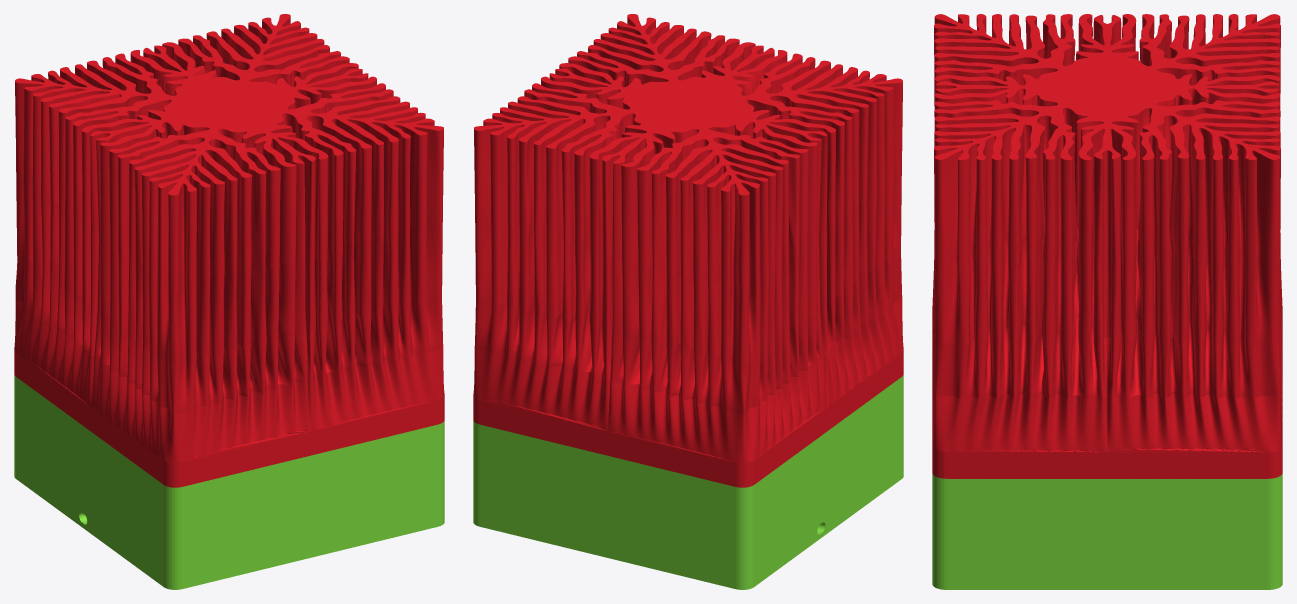
The picture shows the model from 3 angles, left to right: view 1: azimuth 30°, elevation 25°; view 2: azimuth 150°, elevation 25°; view 3: azimuth 270°, elevation 25°; orthographic projection. The views are drawn at different scales.
Parts seen in each view (by area): view 1: kasa; view 2: kasa; view 3: kasa.
Part boxes in pixels (<box>): kasa: <box>14,14,444,589</box>; kasa: <box>473,14,903,589</box>; kasa: <box>932,14,1282,589</box>.
Size of the model in its own units: 25.89 by 34.94 by 25.89.
